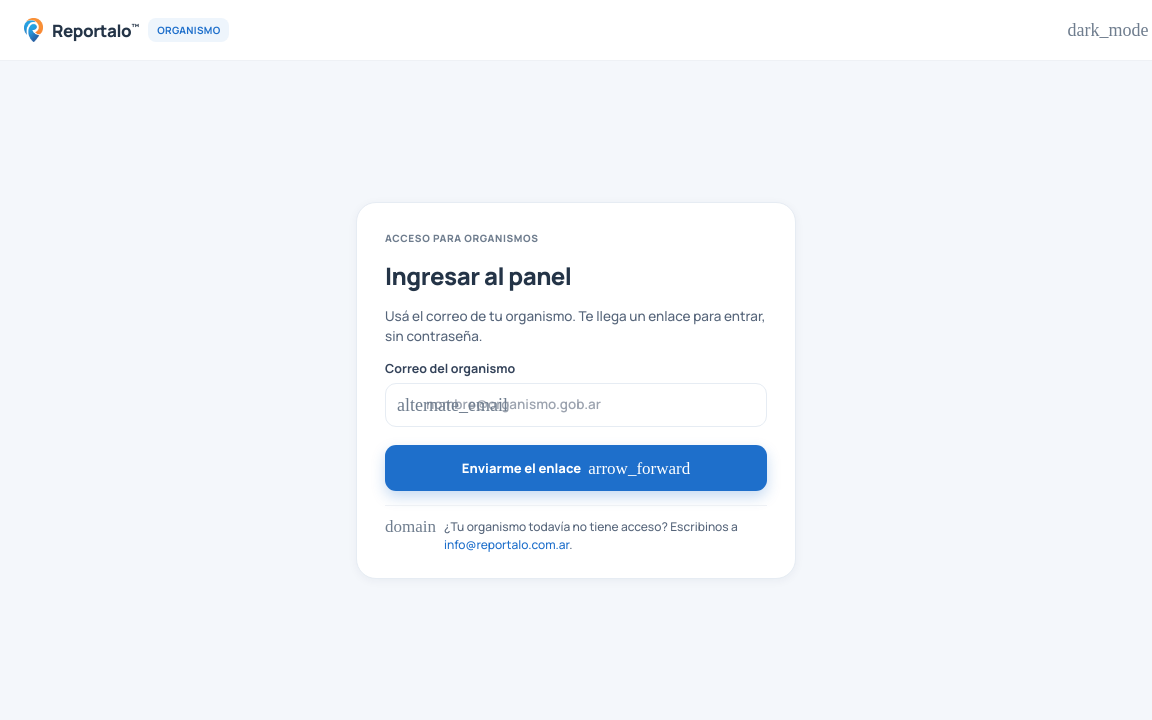
Test: REP-3747 · ingreso del panel › UT-3747-I1: pide el enlace sin crear cuentas y vuelve a /panel
This screenshot has width=1152, height=720.
Expected: the heading "Ingresar al panel" is shown, [385, 259, 572, 292]
Type " Operador@Prueba.ar " into the field labelled "Correo del organismo". click: (576,405)
box: [385, 383, 767, 427]
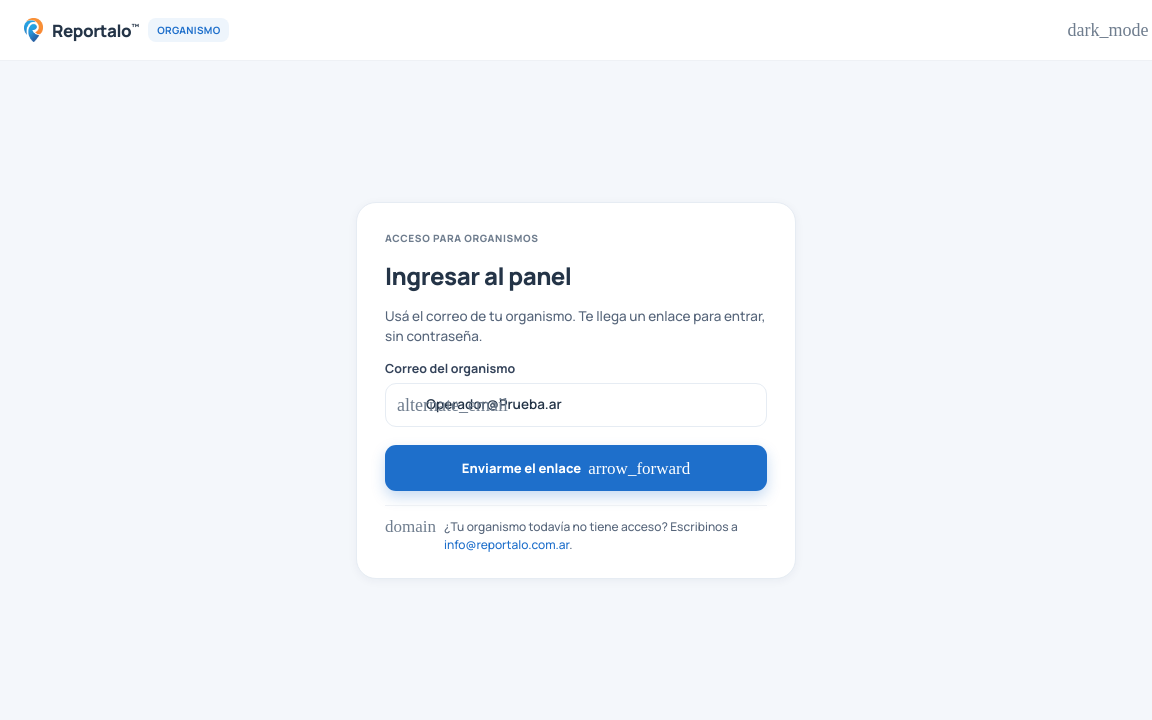
Click the button "Enviarme el enlace". click: (576,468)
box: [385, 445, 767, 491]
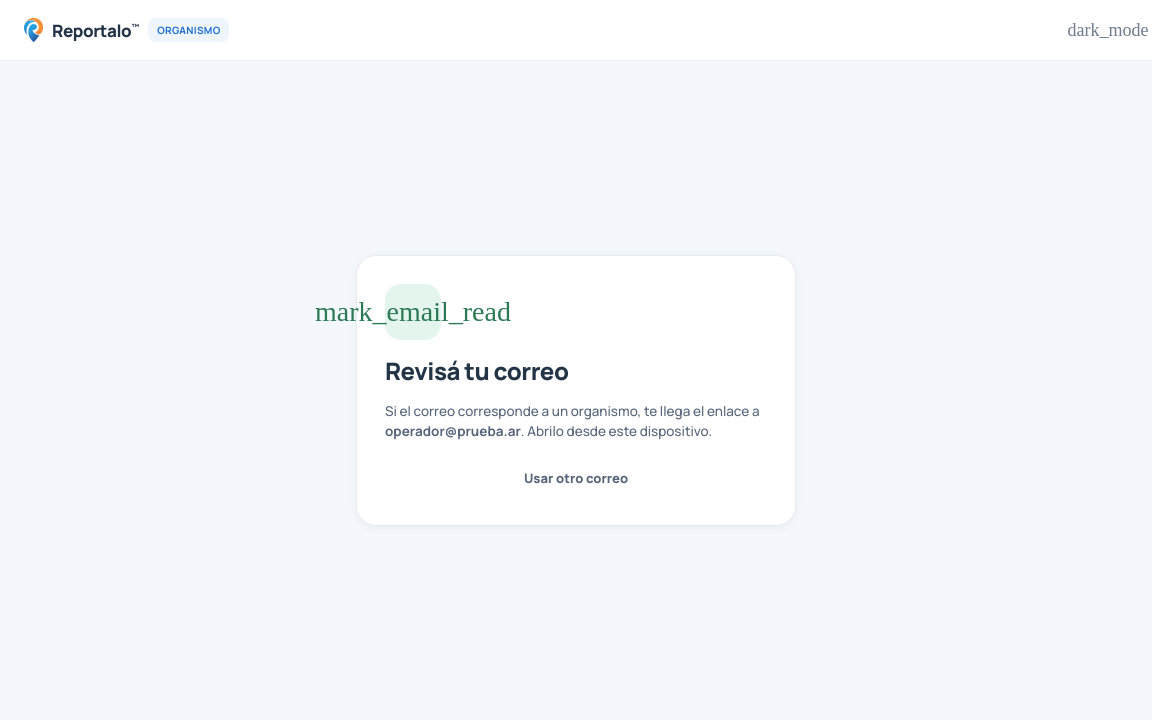
Result: the heading "Revisá tu correo" is shown at [385, 354, 568, 387]
Result: the text "Si el correo corresponde a un organismo, te llega el enlace" is shown at [385, 402, 760, 420]
